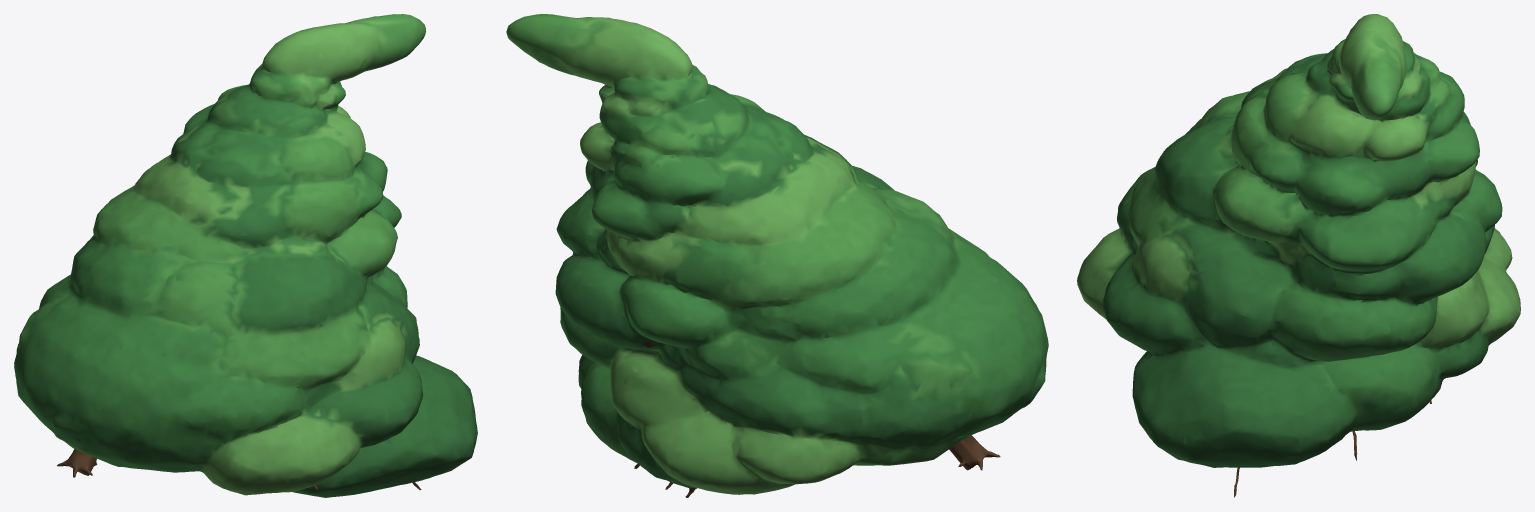
The model's file is pine_windswept.glb.
3 views of the same model, side by side, from view 1: azimuth 30°, elevation 25°; view 2: azimuth 150°, elevation 25°; view 3: azimuth 270°, elevation 25° (orthographic). The views are drawn at different scales.
Visible parts, largest first — view 1: pine_windswept_LOD0; view 2: pine_windswept_LOD0; view 3: pine_windswept_LOD0.
Part boxes in pixels (<box>): pine_windswept_LOD0: <box>14,14,477,497</box>; pine_windswept_LOD0: <box>506,14,1048,497</box>; pine_windswept_LOD0: <box>1077,14,1520,497</box>.
Size of what is drawn, in the model's own units: 7.98 by 7.52 by 6.66.
